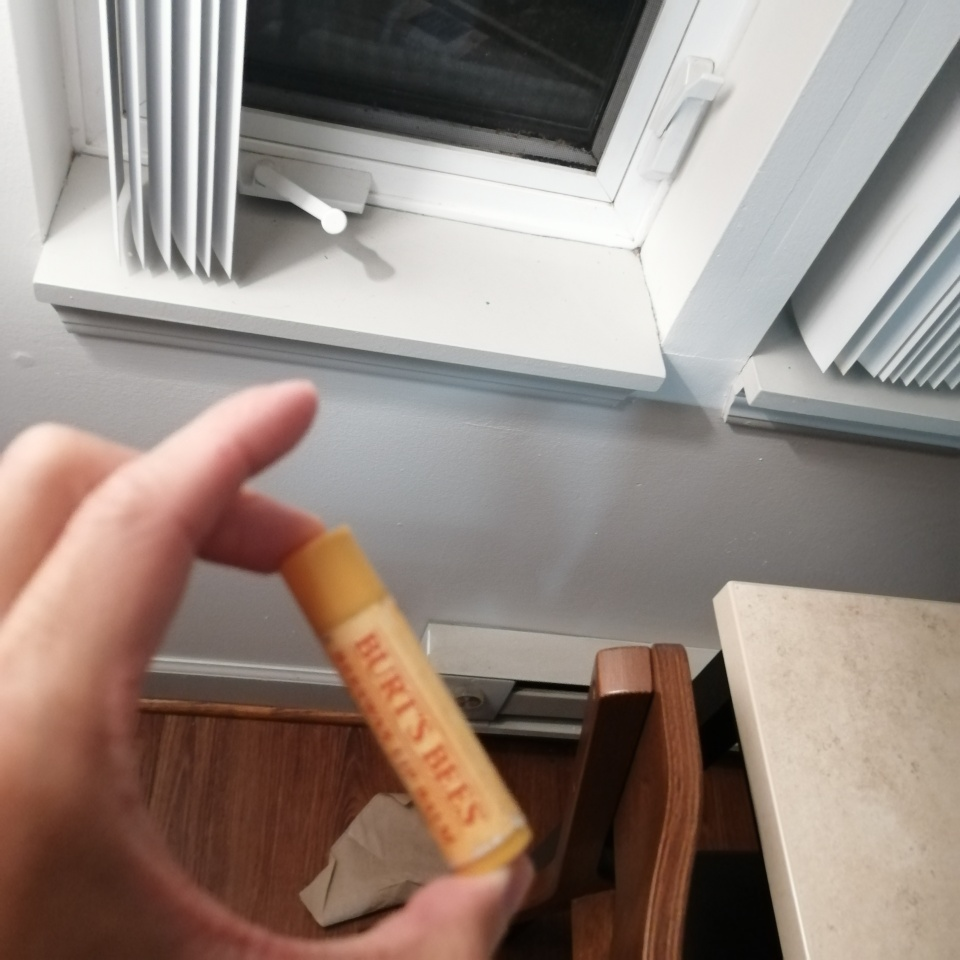chapstick: (279, 524, 536, 876)
